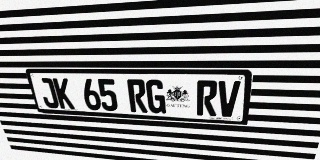5: (97, 79, 119, 111)
6: (80, 78, 102, 110)
G: (145, 79, 166, 114)
J: (37, 78, 60, 108)
K: (52, 78, 75, 109)
R: (197, 80, 218, 116), (127, 79, 148, 113)
V: (217, 81, 241, 117)
